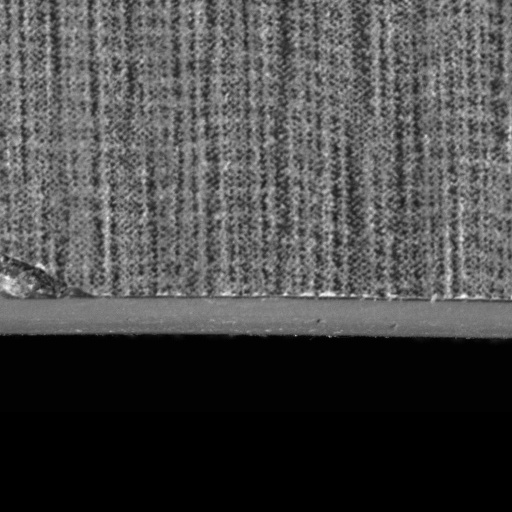bengque: (0, 253, 103, 303)
